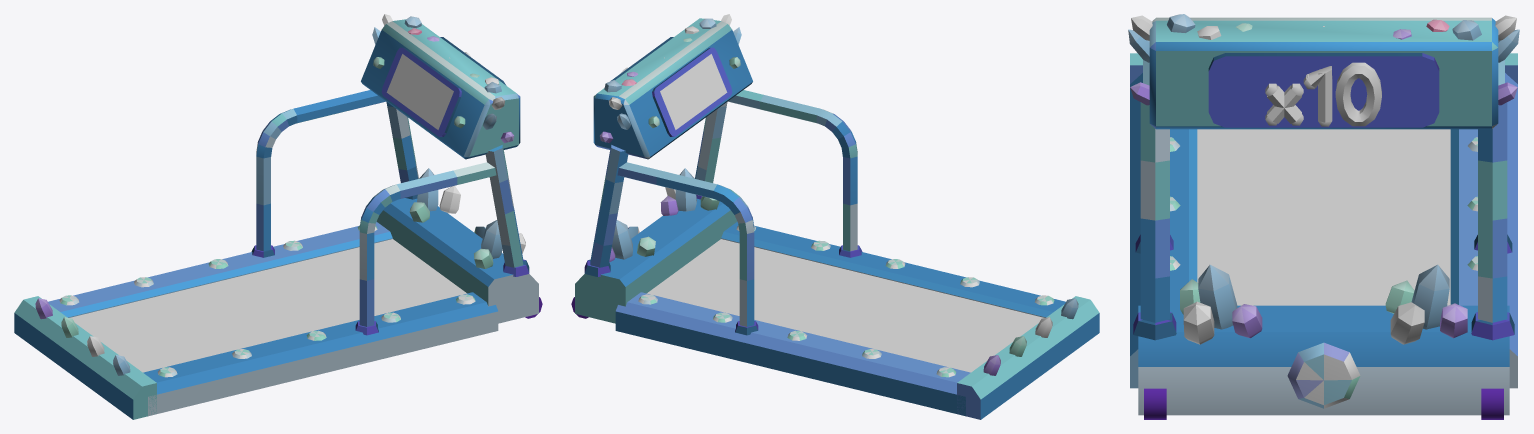
Rendered from treadmill_t3.glb.
3 views of the same model, side by side, from view 1: azimuth 30°, elevation 25°; view 2: azimuth 150°, elevation 25°; view 3: azimuth 270°, elevation 25° (orthographic). The views are drawn at different scales.
Visible parts, largest first — view 1: Body, Belt, Lights, Screen; view 2: Body, Belt, Lights, Screen; view 3: Body, Belt, Lights.
Part boxes in pixels (x1,y1,x2,y2): Body: [14, 19, 542, 419]; Belt: [70, 239, 466, 372]; Lights: [35, 14, 525, 377]; Screen: [386, 54, 453, 129]; Body: [571, 18, 1099, 419]; Belt: [647, 239, 1043, 372]; Lights: [599, 14, 1078, 377]; Screen: [660, 54, 727, 129]; Body: [1130, 17, 1517, 419]; Belt: [1197, 129, 1450, 305]; Lights: [1128, 14, 1519, 344].
Bounding box in the file's own units: 2.79 × 1.5 × 1.39.
